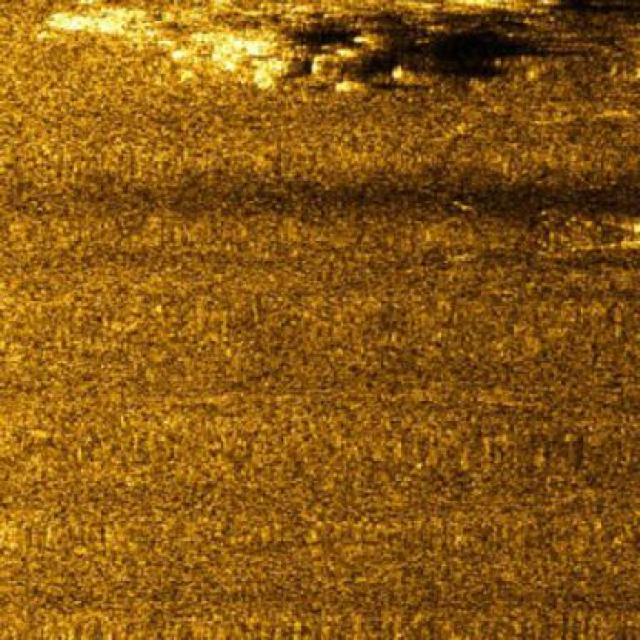bedrock group: (47, 0, 414, 92)
